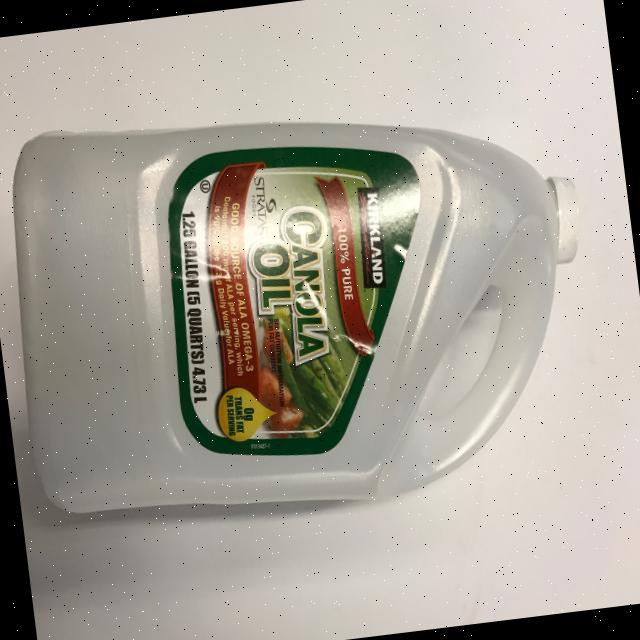plastic: (0, 65, 611, 540)
